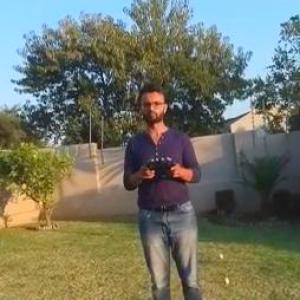follow: (118, 72, 210, 299)
